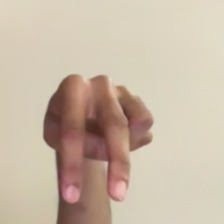N: (32, 56, 160, 217)
